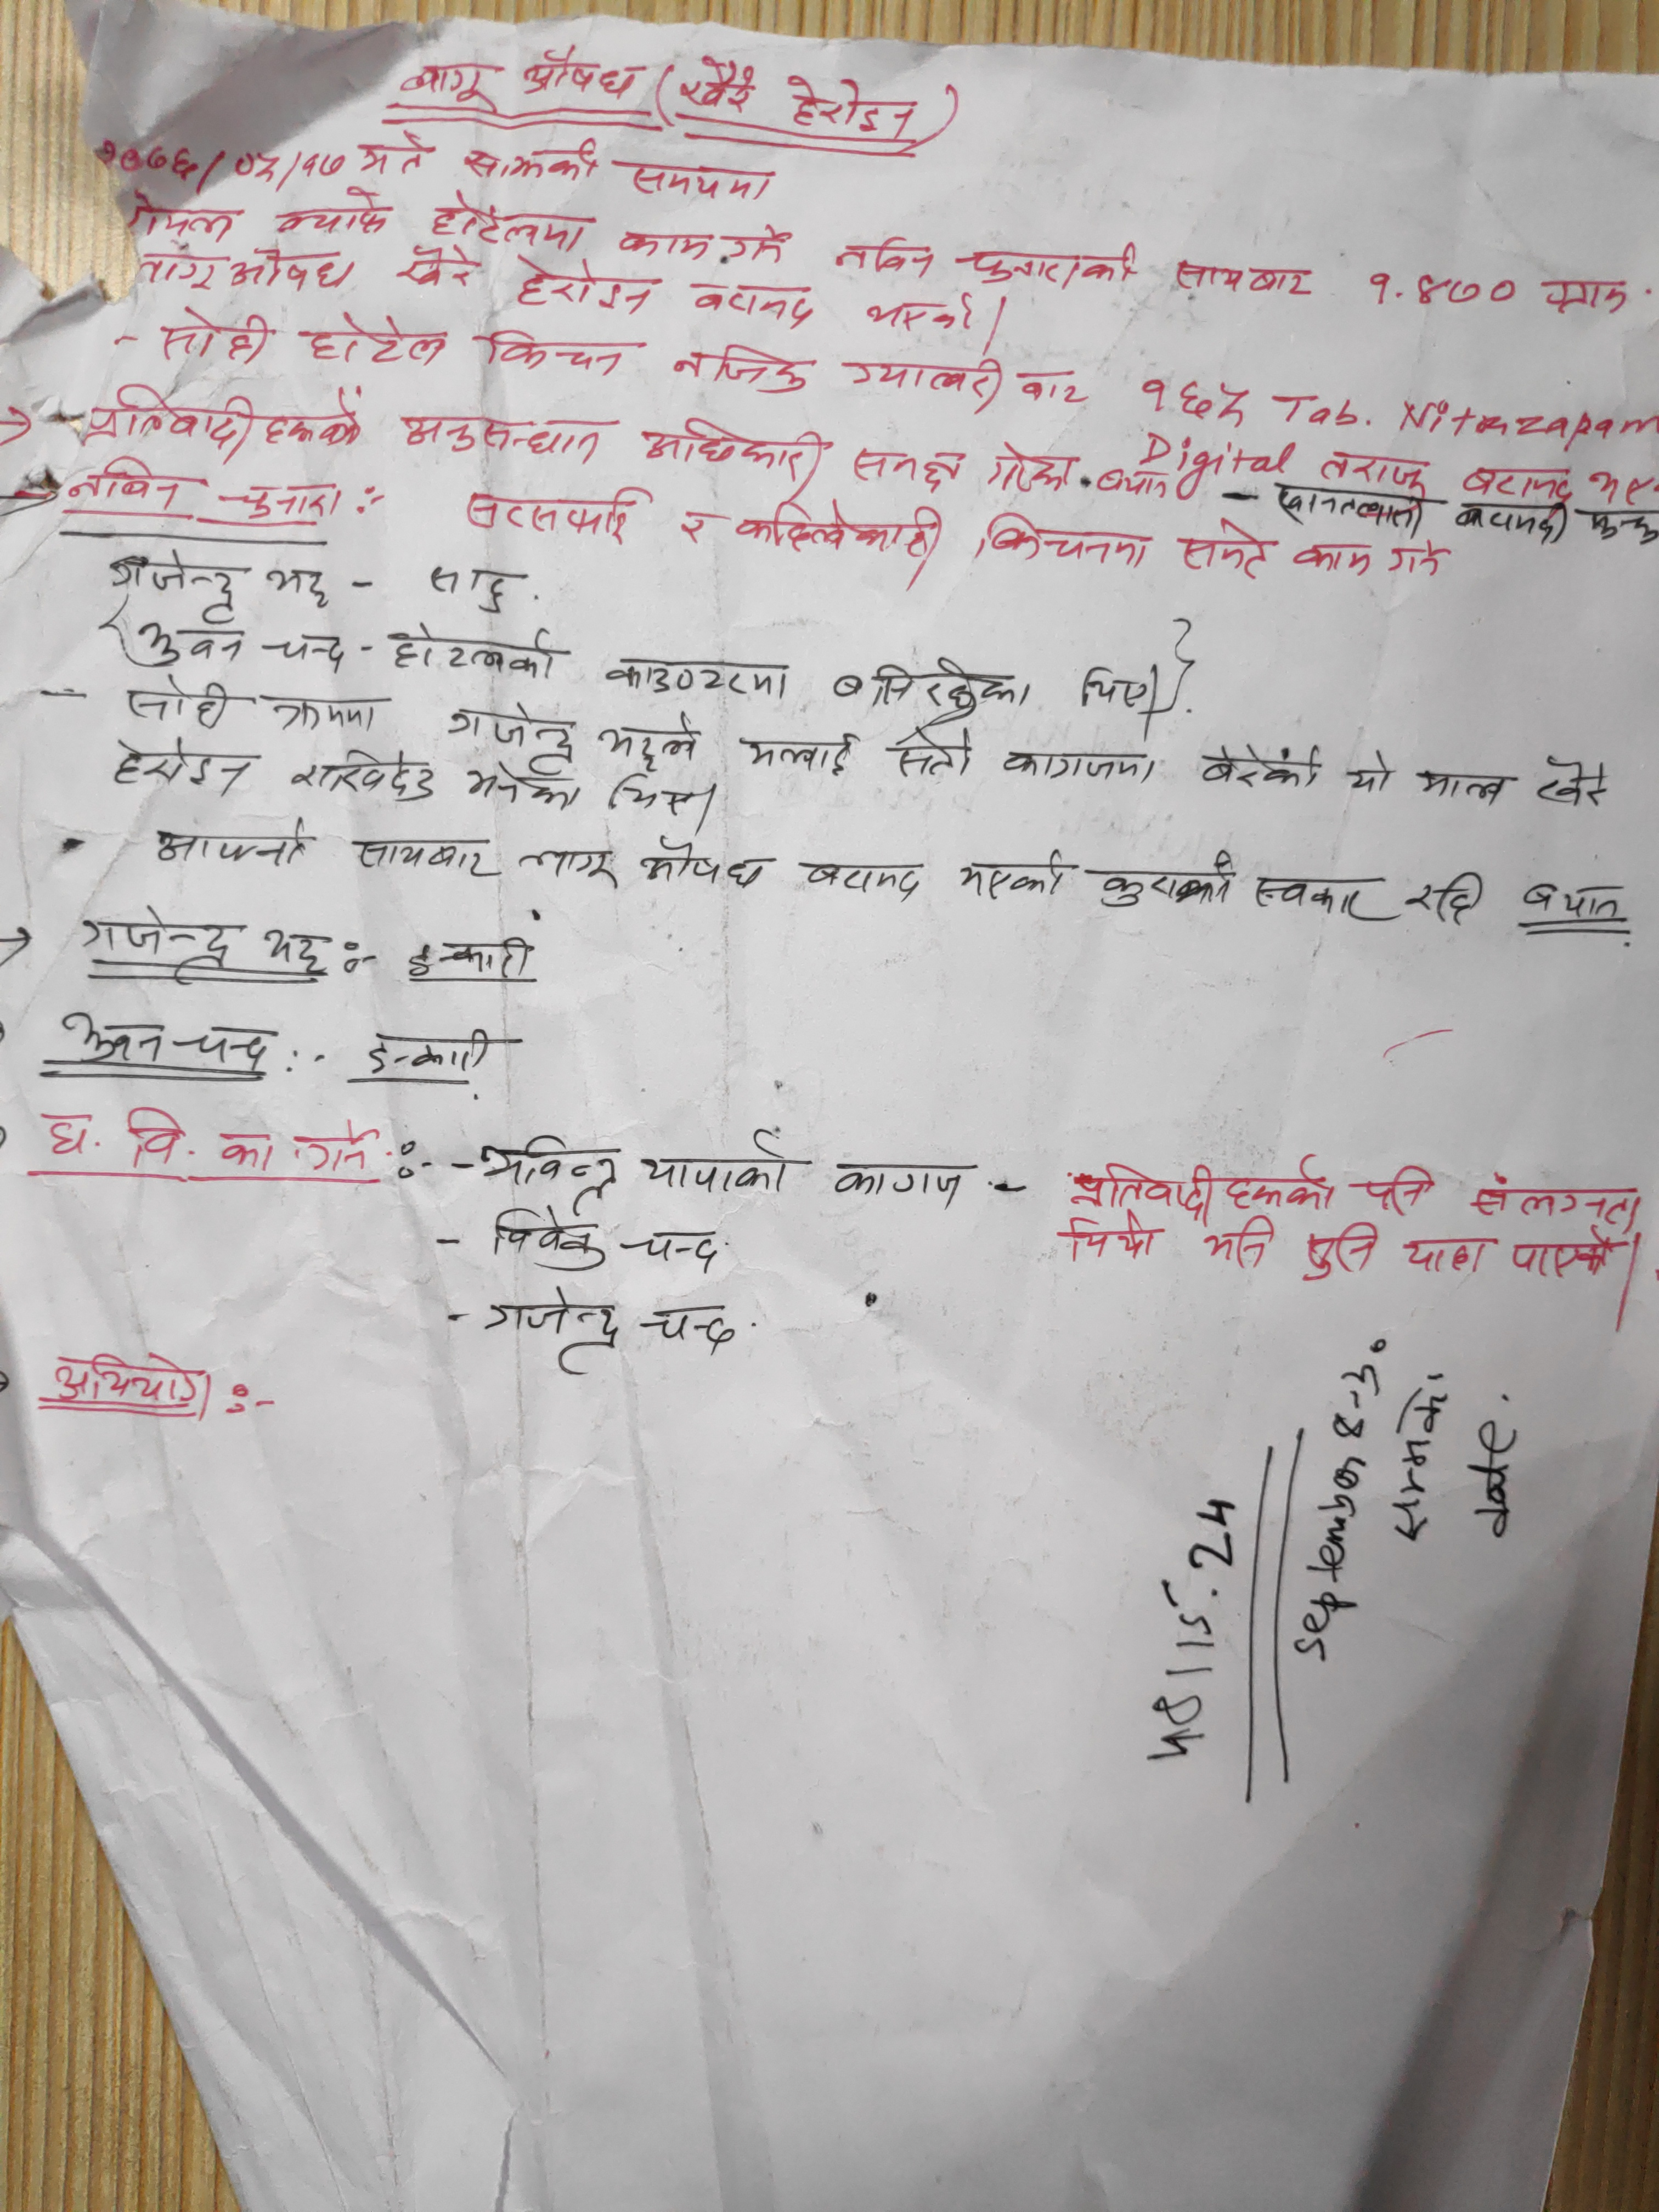text: (80, 381, 366, 455), (1065, 1158, 1342, 1219), (732, 502, 945, 575), (38, 1109, 277, 1174), (641, 416, 824, 493), (830, 660, 1033, 726), (481, 1285, 622, 1379), (382, 620, 561, 688), (640, 1125, 795, 1198), (460, 486, 645, 545), (976, 509, 1150, 571), (78, 906, 237, 974), (106, 545, 240, 625), (396, 413, 601, 465), (51, 1348, 218, 1409), (98, 141, 352, 181), (1471, 1172, 1650, 1228), (843, 352, 1006, 413), (289, 744, 437, 810), (509, 251, 657, 315), (601, 651, 789, 702), (1094, 848, 1237, 914), (423, 192, 587, 249), (483, 1136, 622, 1202), (443, 698, 586, 763), (152, 810, 307, 869), (960, 239, 1148, 287), (300, 310, 451, 369), (1251, 869, 1403, 927), (782, 77, 917, 141), (488, 1202, 612, 1271), (112, 735, 254, 794), (830, 1157, 974, 1214), (594, 704, 704, 775), (990, 742, 1161, 787), (673, 341, 810, 397), (626, 157, 777, 207), (349, 834, 498, 885), (155, 307, 272, 369), (1267, 486, 1425, 531), (1358, 268, 1521, 312), (467, 752, 586, 812), (521, 45, 643, 103), (638, 836, 767, 890), (460, 138, 606, 185), (687, 279, 812, 333), (739, 725, 859, 780), (477, 329, 631, 373), (228, 242, 359, 293), (1448, 496, 1574, 549), (122, 671, 232, 730), (61, 1001, 166, 1062), (70, 455, 183, 510), (272, 186, 389, 240), (1506, 1223, 1617, 1278), (1171, 260, 1312, 303), (958, 846, 1068, 902), (364, 1028, 488, 1076), (845, 442, 964, 493), (216, 477, 350, 521), (406, 937, 540, 981), (1138, 373, 1249, 425), (265, 690, 383, 738), (1182, 517, 1270, 580), (1065, 1211, 1161, 1266), (1317, 446, 1434, 491), (676, 54, 765, 113), (1403, 869, 1488, 930), (859, 289, 978, 333), (619, 1226, 723, 1275), (985, 441, 1079, 495), (1304, 1219, 1384, 1282), (183, 1021, 275, 1075), (422, 564, 519, 615), (638, 1305, 742, 1352), (134, 622, 242, 667), (809, 860, 920, 904), (831, 235, 941, 279), (518, 843, 619, 890), (399, 61, 504, 106), (892, 726, 978, 780), (1460, 465, 1575, 505), (605, 772, 695, 820), (1401, 1233, 1493, 1280), (1541, 273, 1636, 319), (298, 1122, 375, 1177), (1073, 664, 1148, 719), (1202, 1216, 1279, 1270), (1363, 1162, 1441, 1212), (396, 244, 479, 291), (1288, 535, 1375, 578), (263, 629, 350, 671), (1582, 505, 1659, 550), (617, 226, 711, 263), (723, 221, 795, 266), (1016, 369, 1087, 415), (359, 132, 434, 174), (1384, 529, 1443, 577), (265, 925, 324, 970), (265, 566, 329, 606), (676, 505, 716, 545)
